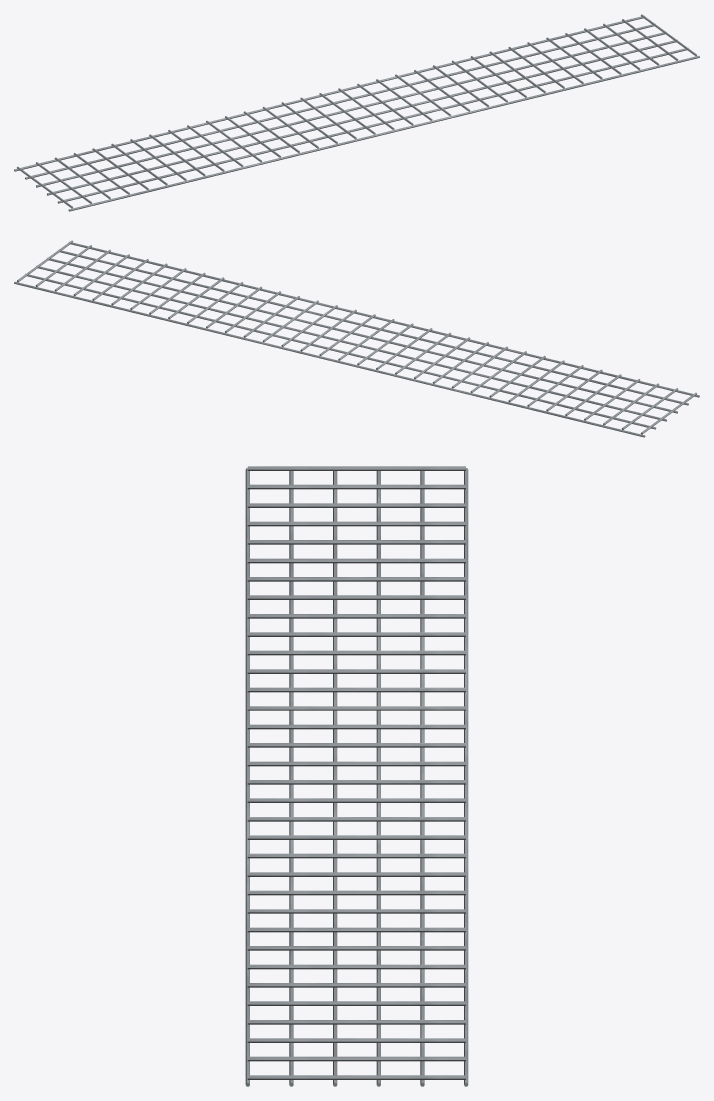
Rendered from ALV-FIX-001.glb.
3 views of the same model, one above another, from view 1: azimuth 30°, elevation 25°; view 2: azimuth 150°, elevation 25°; view 3: azimuth 270°, elevation 25° (orthographic). The views are drawn at different scales.
Parts seen in each view (by area): view 1: ALV-FIX-001_l0, ALV-FIX-001_l1, ALV-FIX-001_l3, ALV-FIX-001_l5, ALV-FIX-001_l2, ALV-FIX-001_l4; view 2: ALV-FIX-001_l5, ALV-FIX-001_l2, ALV-FIX-001_l4, ALV-FIX-001_l0, ALV-FIX-001_l3, ALV-FIX-001_l1; view 3: ALV-FIX-001_l0, ALV-FIX-001_l5, ALV-FIX-001_l1, ALV-FIX-001_l4, ALV-FIX-001_l2, ALV-FIX-001_l3, ALV-FIX-001_t1, ALV-FIX-001_t3, ALV-FIX-001_t5, ALV-FIX-001_t10, ALV-FIX-001_t12, ALV-FIX-001_t14 (+28 smaller).
Part boxes in pixels (x1,y1,x2,y2): ALV-FIX-001_l0: (68, 55, 699, 211); ALV-FIX-001_l1: (57, 47, 688, 203); ALV-FIX-001_l3: (36, 31, 666, 187); ALV-FIX-001_l5: (14, 16, 643, 171); ALV-FIX-001_l2: (47, 39, 677, 195); ALV-FIX-001_l4: (25, 23, 655, 179); ALV-FIX-001_l5: (14, 281, 645, 437); ALV-FIX-001_l2: (47, 257, 677, 413); ALV-FIX-001_l4: (25, 273, 656, 429); ALV-FIX-001_l0: (70, 242, 699, 397); ALV-FIX-001_l3: (36, 265, 666, 421); ALV-FIX-001_l1: (58, 249, 688, 405); ALV-FIX-001_l0: (245, 468, 249, 1086); ALV-FIX-001_l5: (464, 468, 468, 1086); ALV-FIX-001_l1: (289, 471, 293, 1086); ALV-FIX-001_l4: (420, 471, 424, 1086); ALV-FIX-001_l2: (333, 471, 337, 1086); ALV-FIX-001_l3: (376, 471, 380, 1086); ALV-FIX-001_t1: (247, 484, 465, 489); ALV-FIX-001_t3: (247, 521, 465, 526); ALV-FIX-001_t5: (247, 558, 465, 563); ALV-FIX-001_t10: (247, 650, 465, 655); ALV-FIX-001_t12: (247, 687, 465, 692); ALV-FIX-001_t14: (247, 724, 465, 729).
Bounding box in the file's own units: 0.5 × 0.00299 × 0.0766.
1 material, 1 textured.
